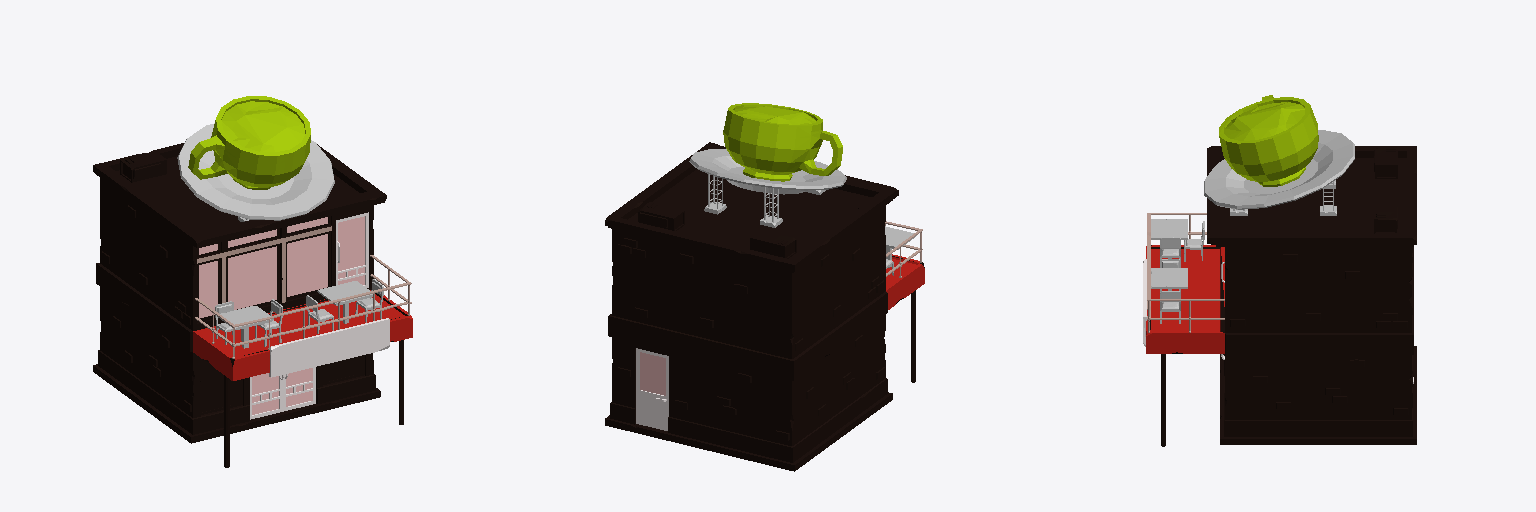
3 views of the same model, side by side, from view 1: azimuth 30°, elevation 25°; view 2: azimuth 150°, elevation 25°; view 3: azimuth 270°, elevation 25° (orthographic).
Parts seen in each view (by area): view 1: SM_Bld_Cafe_01_Mesh.001, SM_Bld_Cafe_Cup_Sign_01_Mesh.001, SM_Bld_Cafe_Sign_01_Mesh.001, SM_Bld_Cafe_Tables_01_Mesh.001, SM_Bld_Cafe_Door_03_Mesh.001, SM_Bld_Cafe_Door_01_Mesh.002, SM_Bld_Cafe_Door_02_Mesh.001; view 2: SM_Bld_Cafe_01_Mesh.001, SM_Bld_Cafe_Cup_Sign_01_Mesh.001, SM_Bld_Cafe_Door_04_Mesh.001; view 3: SM_Bld_Cafe_01_Mesh.001, SM_Bld_Cafe_Cup_Sign_01_Mesh.001, SM_Bld_Cafe_Tables_01_Mesh.001.
Part boxes in pixels (left/top/right/bottom): SM_Bld_Cafe_01_Mesh.001: left=93, top=143, right=412, bottom=467; SM_Bld_Cafe_Cup_Sign_01_Mesh.001: left=177, top=96, right=334, bottom=221; SM_Bld_Cafe_Sign_01_Mesh.001: left=269, top=318, right=389, bottom=377; SM_Bld_Cafe_Tables_01_Mesh.001: left=215, top=279, right=383, bottom=348; SM_Bld_Cafe_Door_03_Mesh.001: left=336, top=212, right=368, bottom=287; SM_Bld_Cafe_Door_01_Mesh.002: left=250, top=373, right=283, bottom=419; SM_Bld_Cafe_Door_02_Mesh.001: left=283, top=367, right=315, bottom=411; SM_Bld_Cafe_01_Mesh.001: left=605, top=142, right=924, bottom=471; SM_Bld_Cafe_Cup_Sign_01_Mesh.001: left=689, top=103, right=846, bottom=227; SM_Bld_Cafe_Door_04_Mesh.001: left=636, top=348, right=668, bottom=430; SM_Bld_Cafe_01_Mesh.001: left=1146, top=146, right=1416, bottom=446; SM_Bld_Cafe_Cup_Sign_01_Mesh.001: left=1204, top=95, right=1354, bottom=215; SM_Bld_Cafe_Tables_01_Mesh.001: left=1151, top=219, right=1204, bottom=323.
Size of the model in its own units: 5.8 by 8.58 by 7.23.